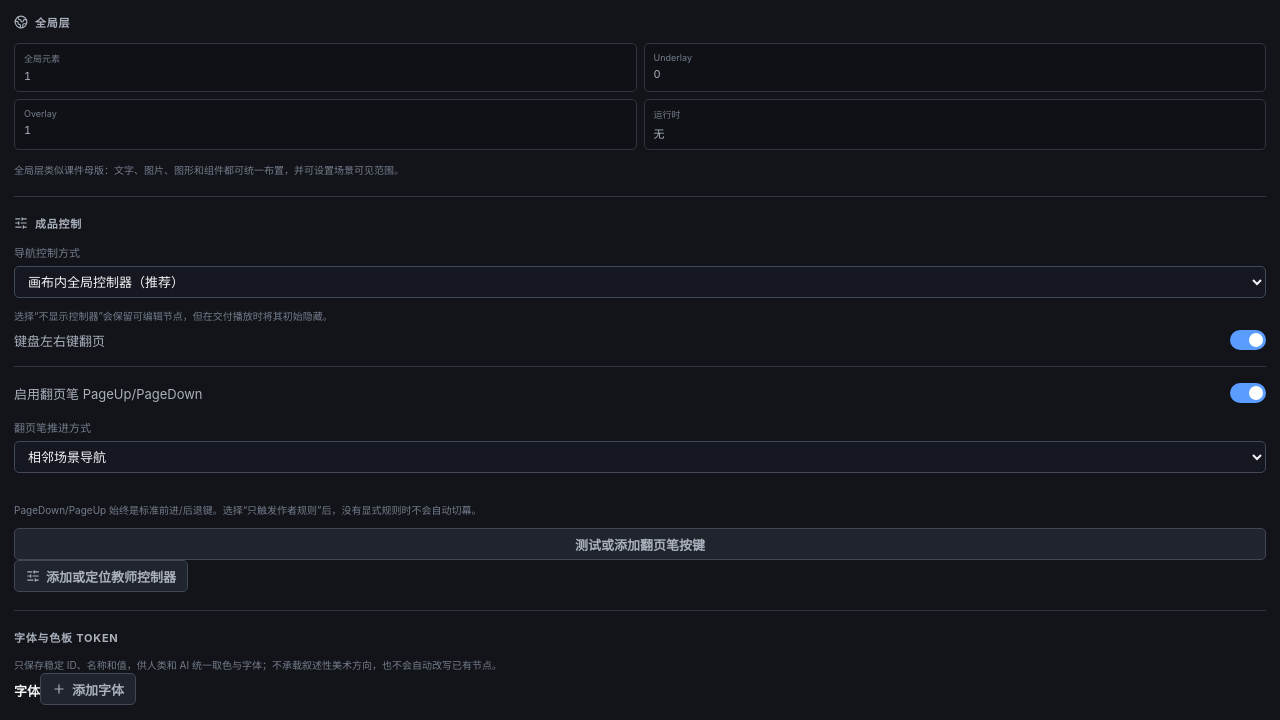
Test: presenter settings editor › recognizes PageDown as built in and does not duplicate it
Step 1. Click the button "测试或添加翻页笔按键" → {"x": 640, "y": 544}, box [14,528,1266,560]
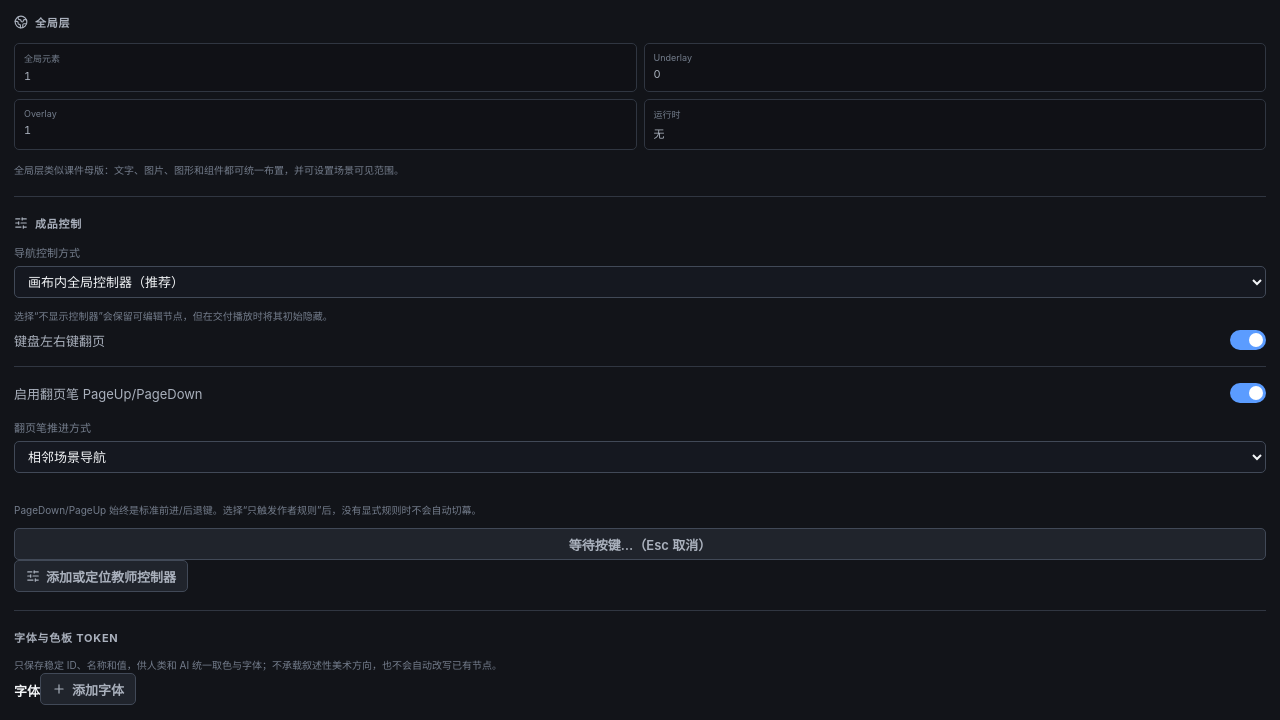
Step 2. Press PageDown
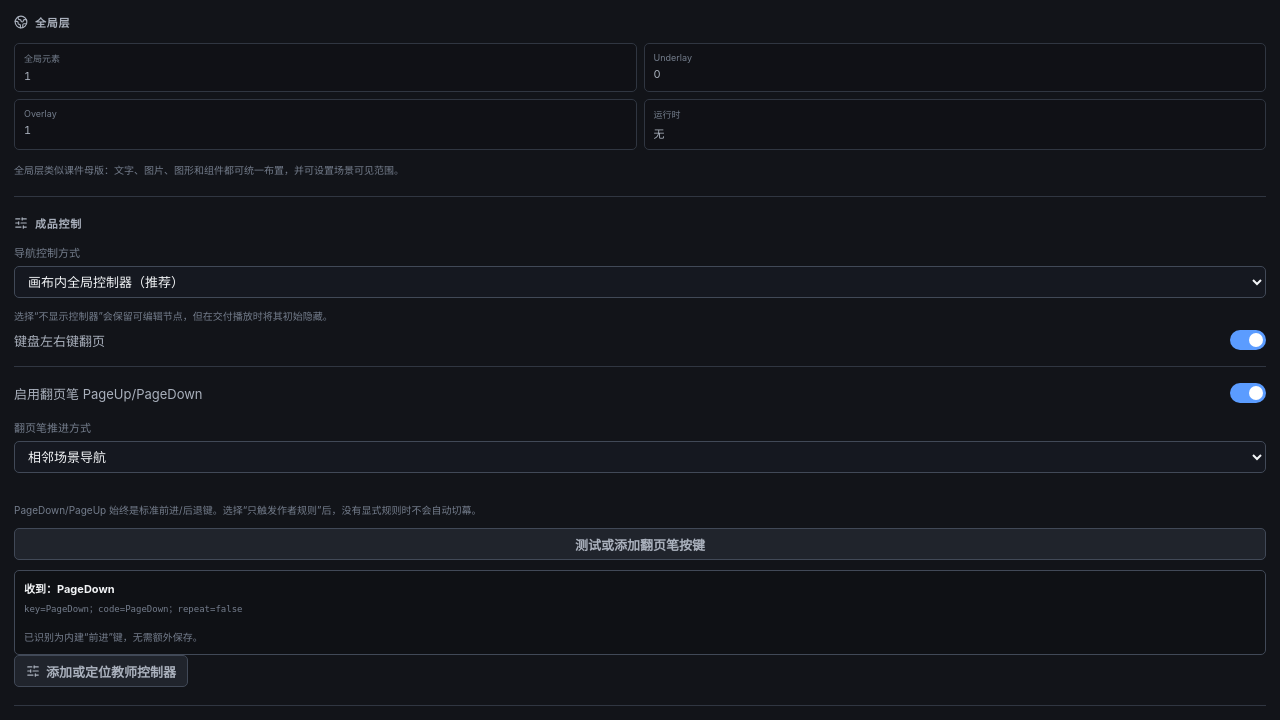
Expected: the message shows "内建“前进”键", [14,570,1266,655]
